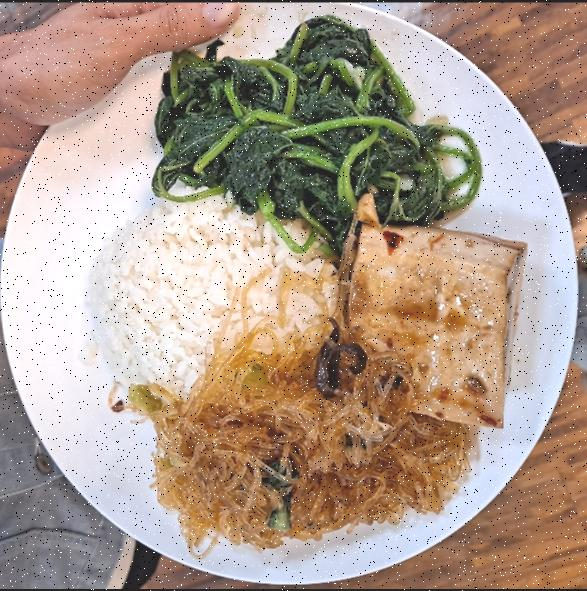plate: (6, 6, 584, 586)
side dish: (141, 16, 484, 228), (130, 372, 470, 550), (333, 218, 533, 425)
white rice: (75, 188, 343, 396)
